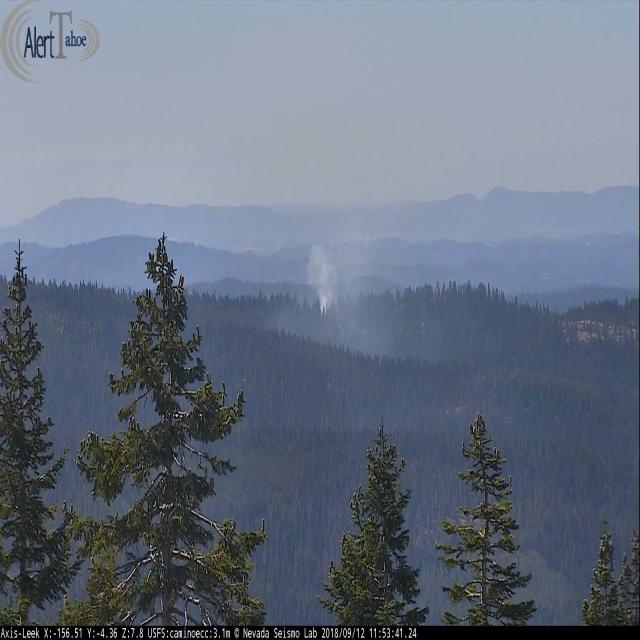smoke: (306, 245, 343, 314)
